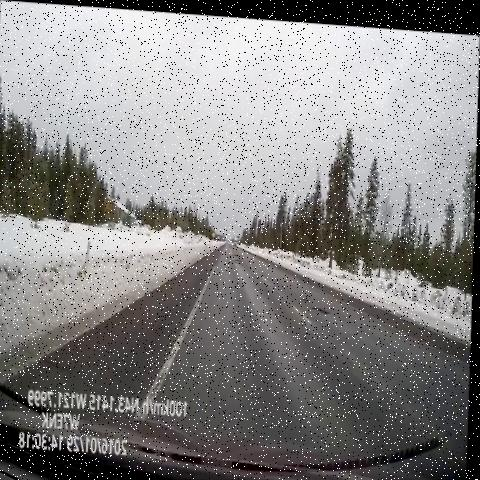pothole: (312, 295, 339, 323), (229, 253, 251, 268), (297, 286, 316, 303), (228, 243, 243, 257)
